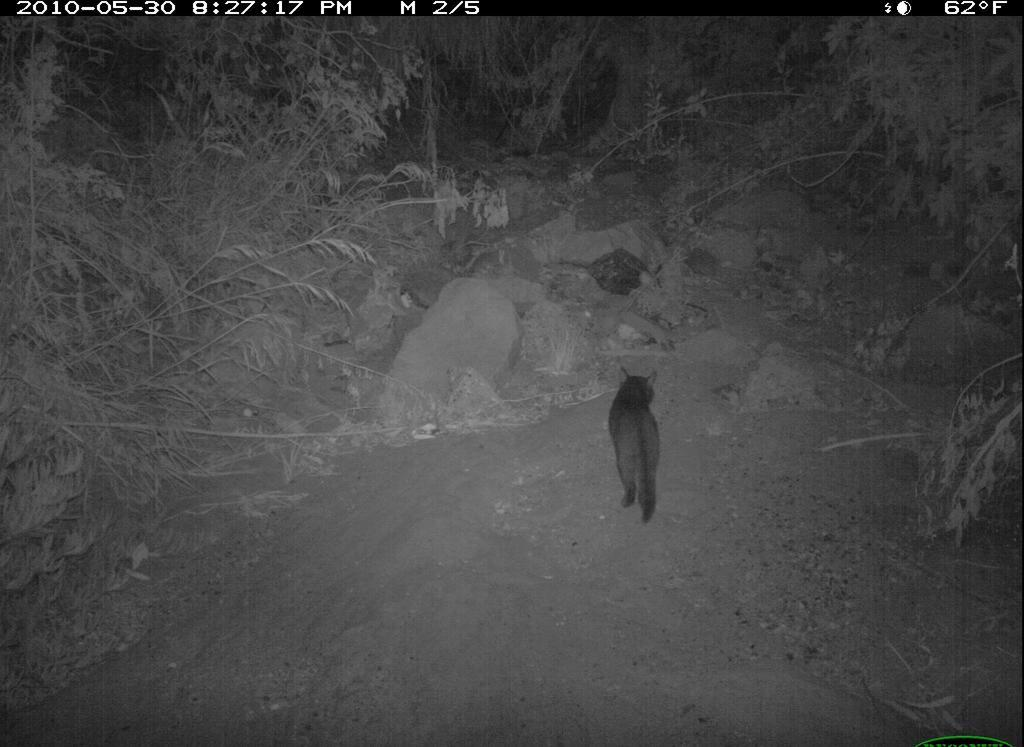cat: (607, 360, 673, 525)
